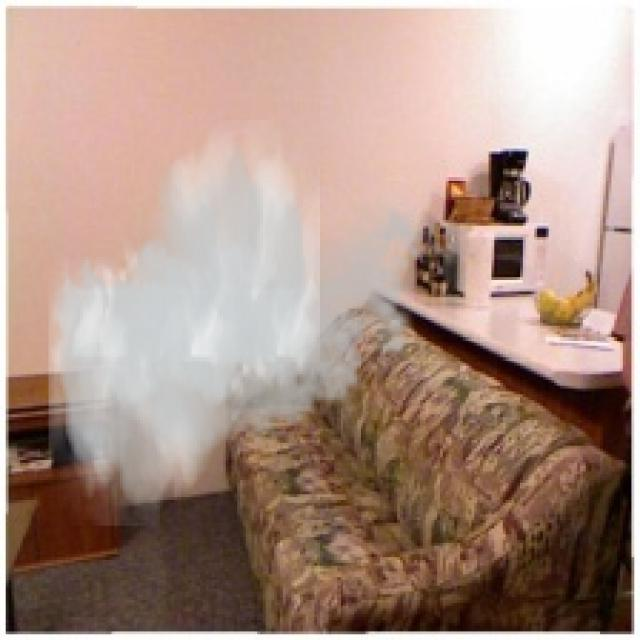smoke: (49, 120, 434, 526)
